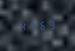four: (18, 20, 26, 31), (27, 20, 35, 31)
six: (36, 20, 44, 30)
three: (45, 19, 53, 30)
